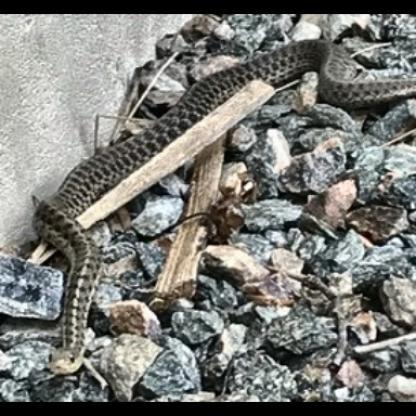Snake: (26, 35, 416, 376)
